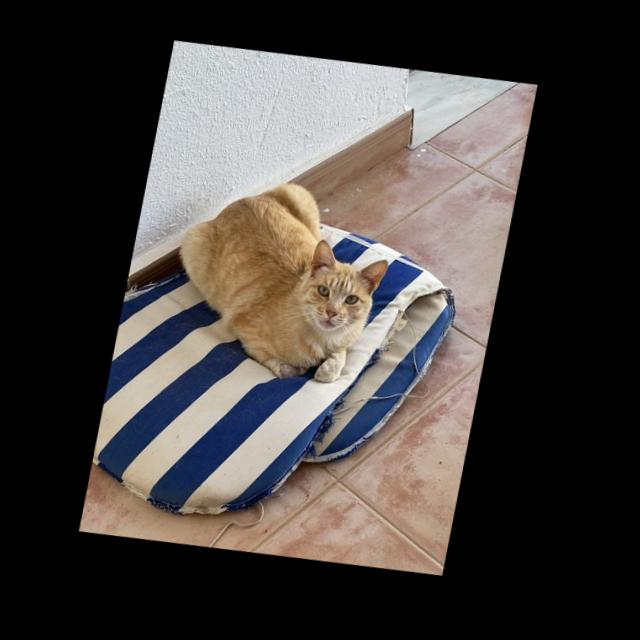animals: (160, 165, 406, 396)
